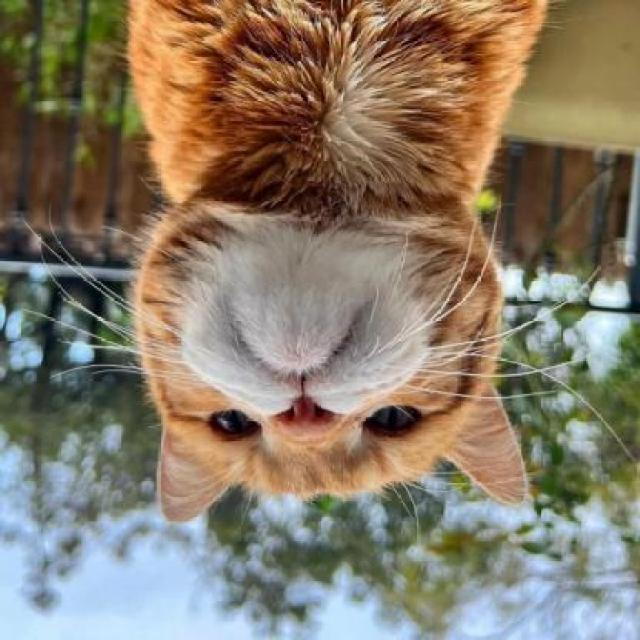cat: (115, 0, 560, 545)
